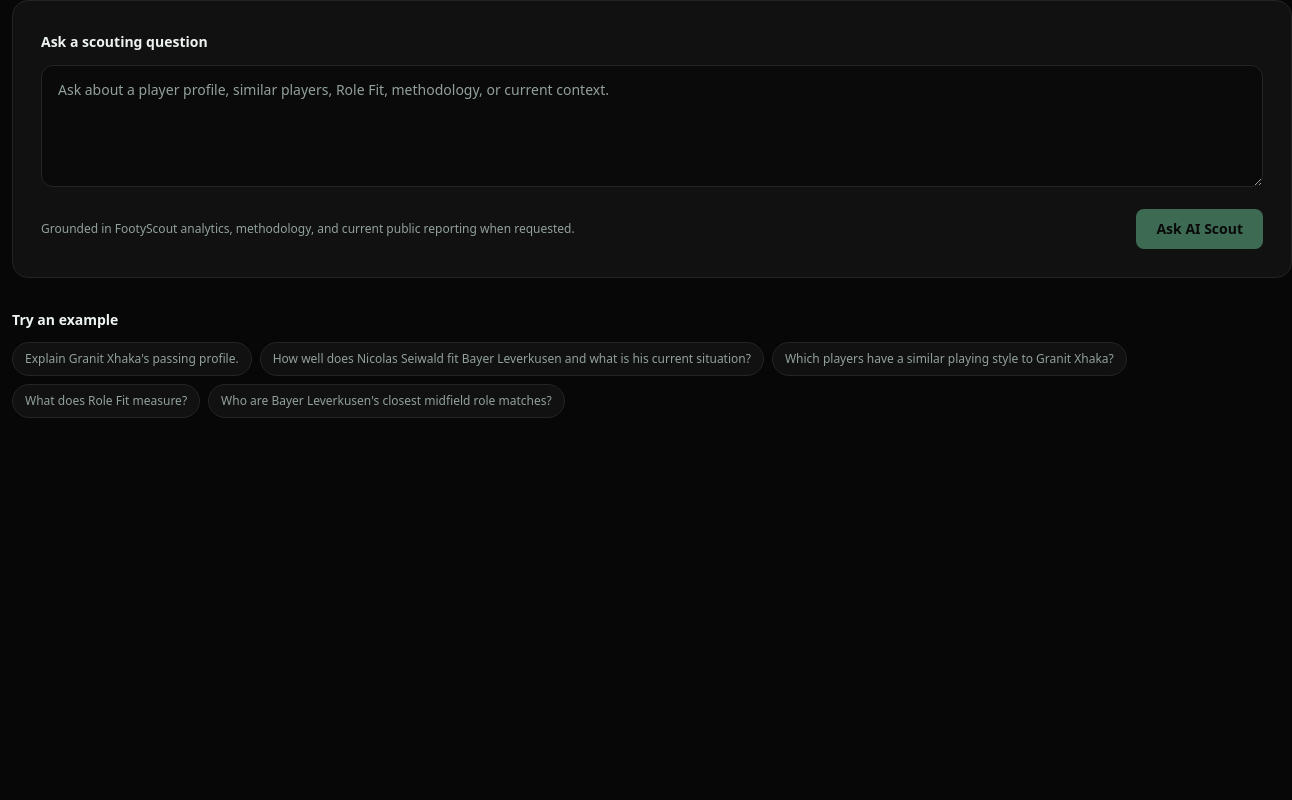
Test: AIScoutExperience › renders the unsupported application state
This screenshot has width=1292, height=800.
Type "Explain Role Fit." into the text box labelled "Ask a scouting question" at [652, 126], box [41, 65, 1263, 187]
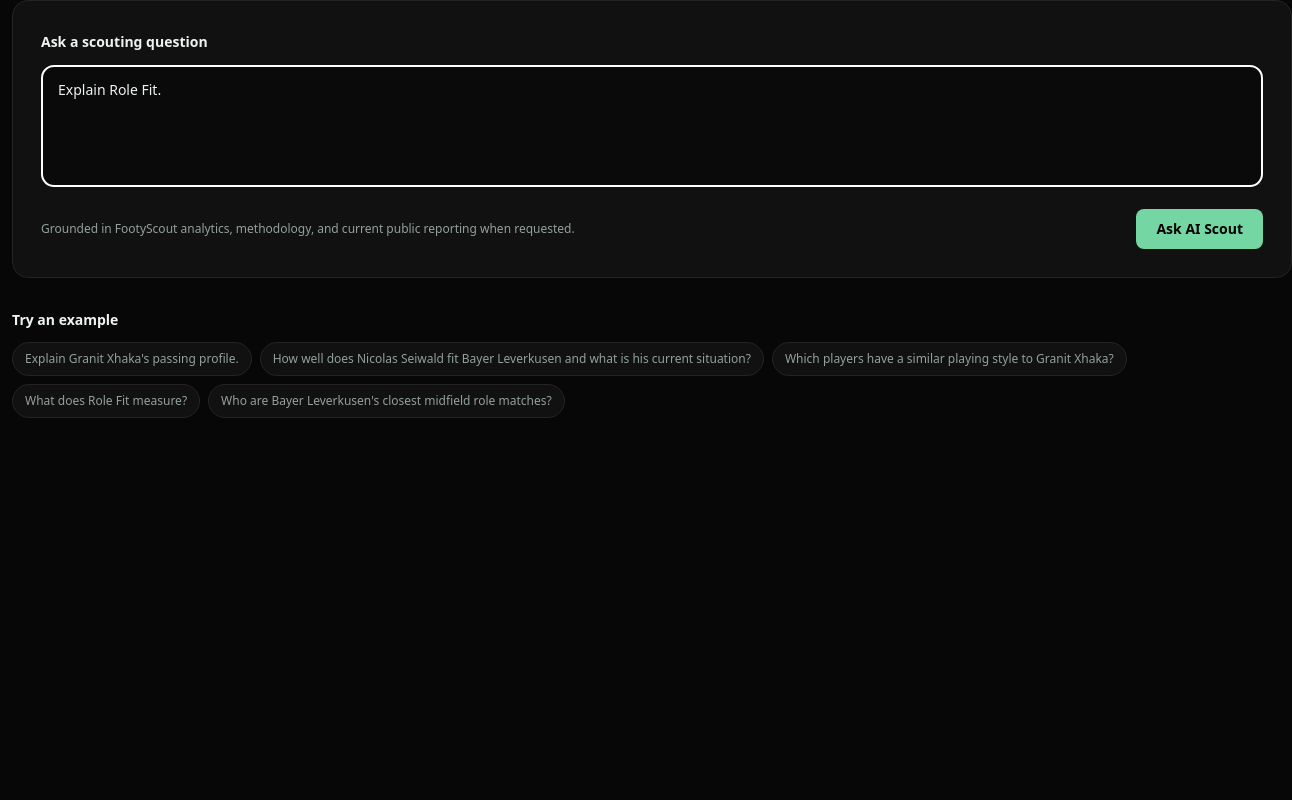
Click the button "Ask AI Scout" at [1200, 229], box [1136, 209, 1263, 249]
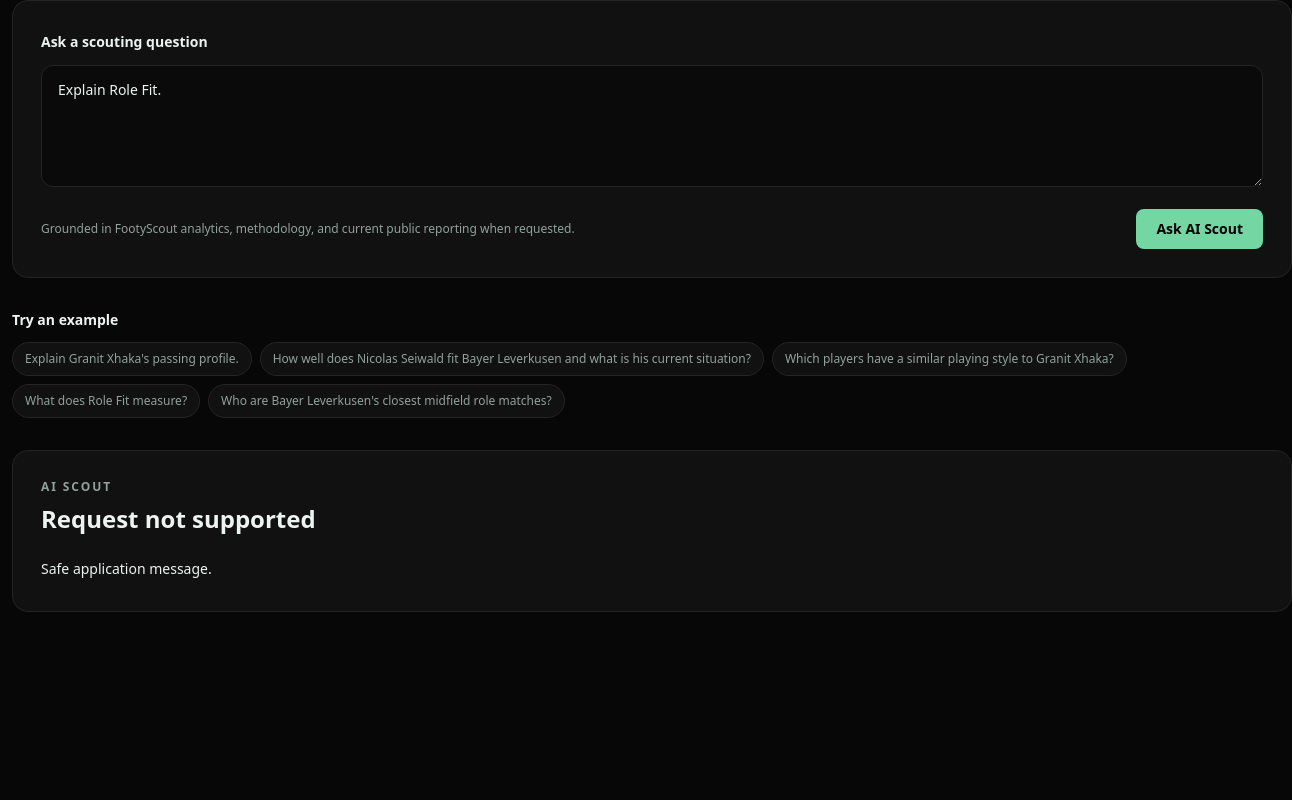
Check: the heading "Request not supported" is shown, box [41, 502, 316, 535]
Check: the text "Safe application message." is shown, box [41, 559, 212, 578]
